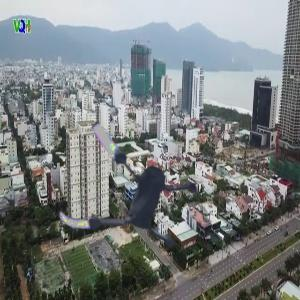drone: (53, 108, 218, 273)
